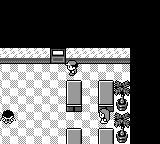main: (66, 61, 78, 75)
no-caminable: (0, 0, 159, 143), (114, 81, 130, 143), (66, 48, 130, 63), (1, 48, 50, 63), (66, 81, 82, 111), (98, 81, 114, 110), (66, 129, 82, 143), (99, 129, 114, 143)
npc: (98, 108, 111, 124), (1, 111, 15, 124)
puerta: (50, 48, 65, 63)
